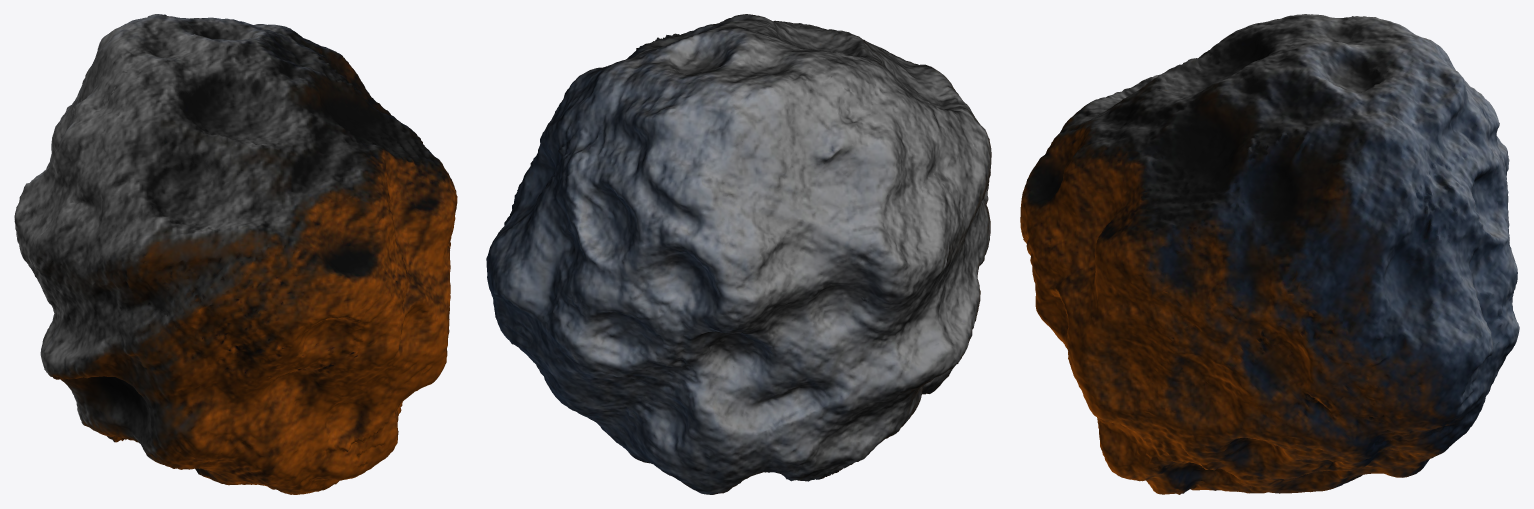
Rendered from asteroid.glb.
3 renders of one model, left to right at view 1: azimuth 30°, elevation 25°; view 2: azimuth 150°, elevation 25°; view 3: azimuth 270°, elevation 25°, orthographic. The views are drawn at different scales.
Parts seen in each view (by area): view 1: Object_2, Object_3; view 2: Object_3, Object_2; view 3: Object_2, Object_3.
Part boxes in pixels (box(x1,y1,x2,y2)): Object_2: box(14, 14, 457, 494); Object_3: box(14, 24, 443, 494); Object_3: box(499, 14, 991, 489); Object_2: box(486, 14, 988, 494); Object_2: box(1020, 14, 1518, 494); Object_3: box(1040, 23, 1519, 485).
Bounding box in the file's own units: 536 × 543 × 568.
1 material, 1 textured.
